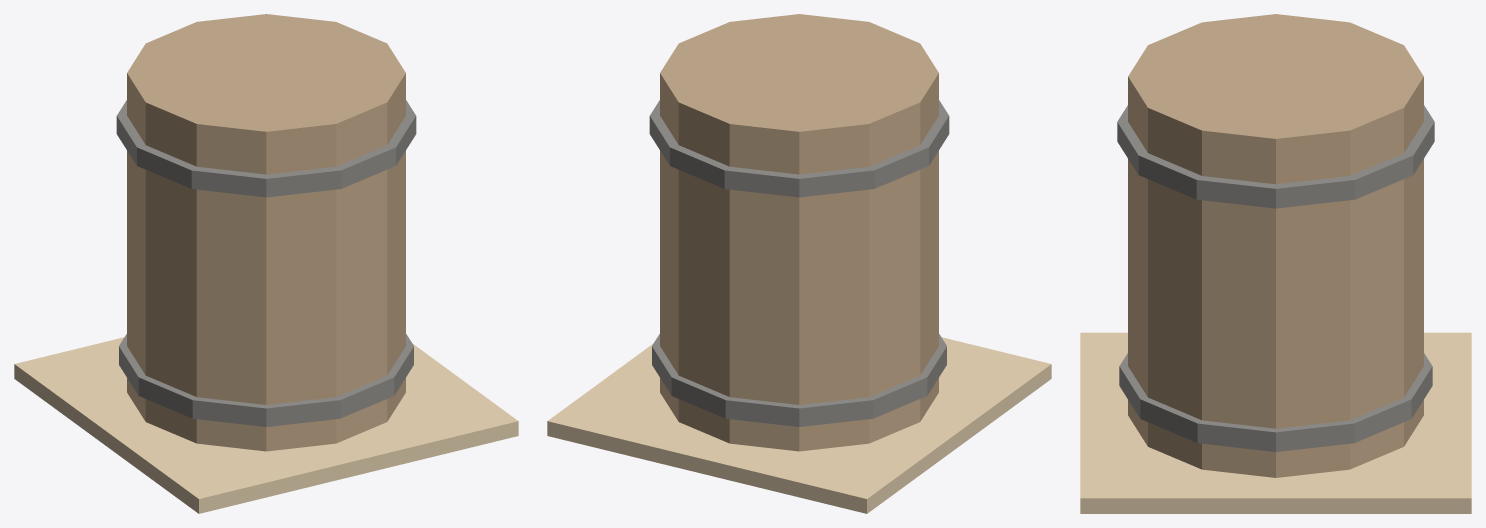
File: rain-barrel.glb
3 views of the same model, side by side, from view 1: azimuth 30°, elevation 25°; view 2: azimuth 150°, elevation 25°; view 3: azimuth 270°, elevation 25° (orthographic). The views are drawn at different scales.
Parts seen in each view (by area): view 1: rain-barrel; view 2: rain-barrel; view 3: rain-barrel.
Part boxes in pixels (x1,y1,x2,y2): rain-barrel: (14,14,518,513); rain-barrel: (547,14,1051,513); rain-barrel: (1080,14,1471,513).
Size of the model in its own units: 0.9 by 0.9 by 0.9.
